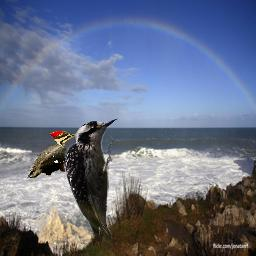Woodpecker: (60, 112, 122, 249), (27, 131, 81, 178)
